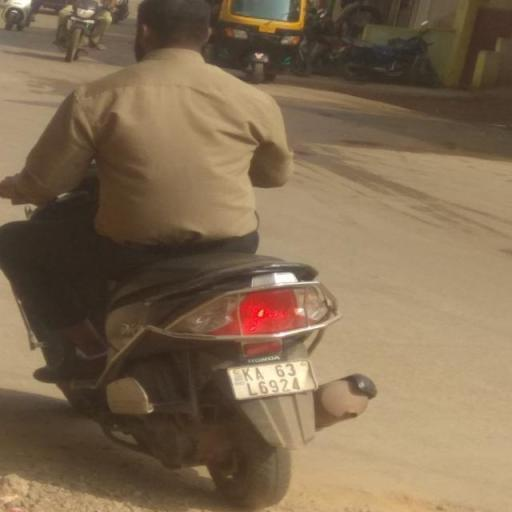bike: (4, 0, 378, 507)
numberplate: (225, 354, 316, 404)
withouthelmet: (137, 2, 209, 56)
